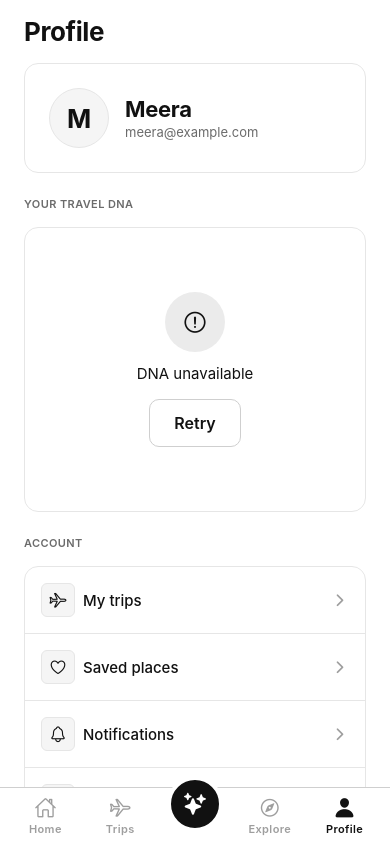
ProfileScreen › shows a typed error state with retry when Travel DNA loading fails
This screenshot has width=390, height=844.
Expected: the text "DNA unavailable" is shown, top-left (137, 364), bottom-right (253, 383)
Click the button "Retry": point(195, 423) top-left (149, 399), bottom-right (241, 447)
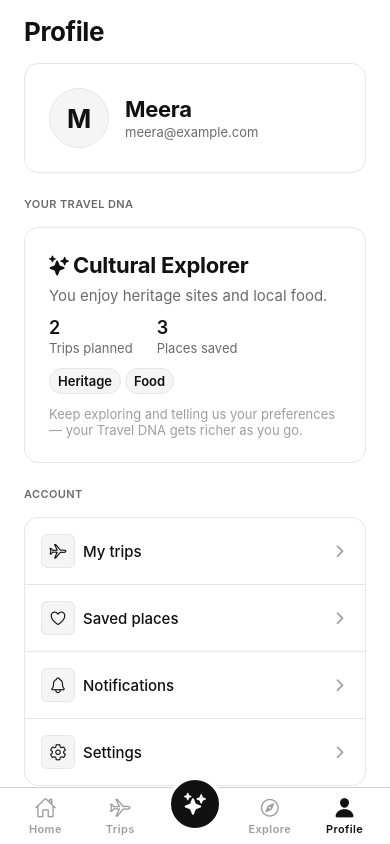
Expected: the element with test id "travel-dna-success" is shown, top-left (24, 227), bottom-right (366, 463)
